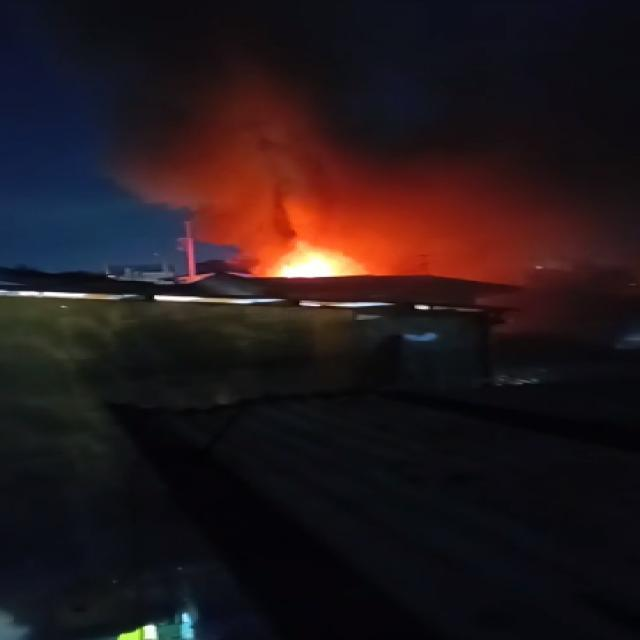Fire: (260, 238, 370, 279)
Smoke: (43, 0, 575, 243)
